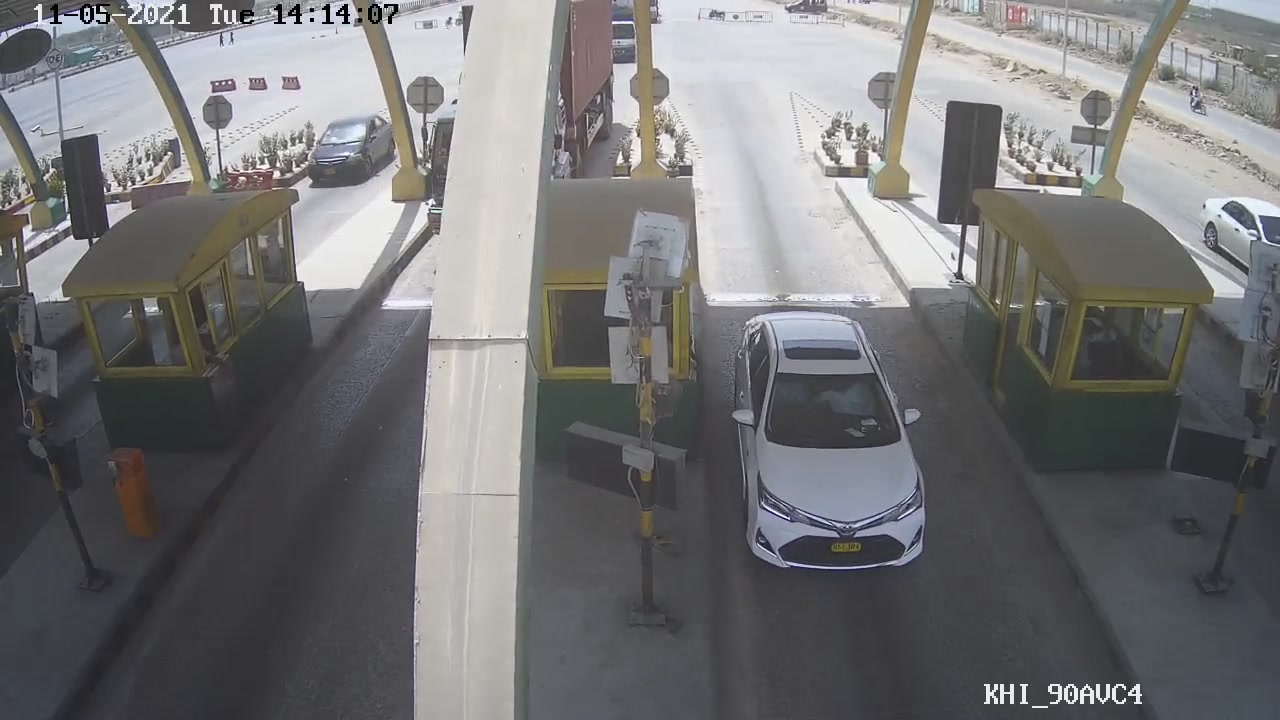F1: (722, 303, 937, 591)
